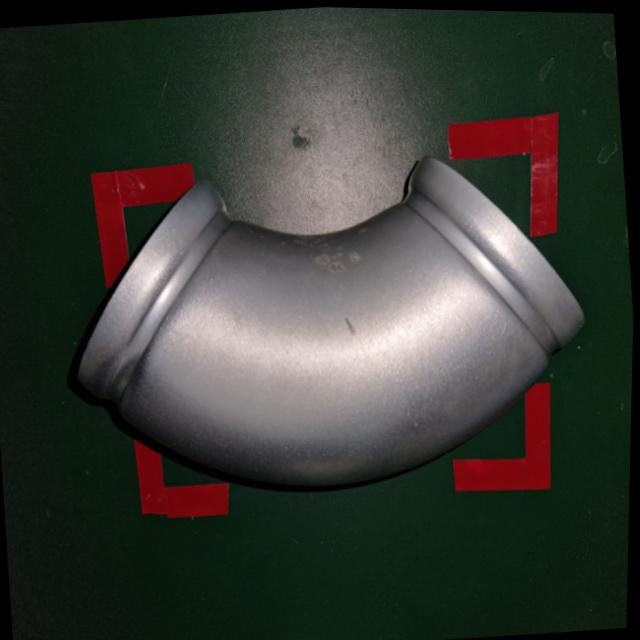Defect: (52, 122, 612, 532)
Hole: (274, 214, 390, 360)
